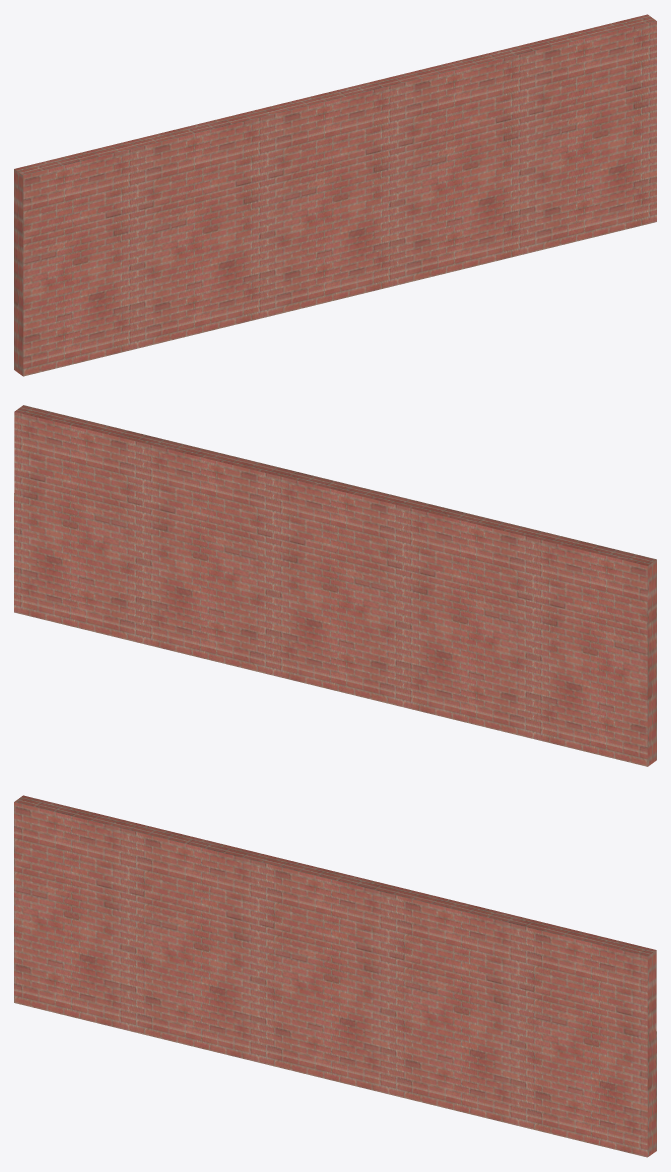
File: BRICKWALL04.glb
The picture shows the model from 3 angles, top to bottom: view 1: azimuth 30°, elevation 25°; view 2: azimuth 150°, elevation 25°; view 3: azimuth 330°, elevation 25°; orthographic projection.
Visible parts, largest first — view 1: BRICKWALL04; view 2: BRICKWALL04; view 3: BRICKWALL04.
Part boxes in pixels (box(x1,y1,x2,y2)): BRICKWALL04: box(14, 14, 656, 376); BRICKWALL04: box(14, 405, 656, 766); BRICKWALL04: box(14, 795, 656, 1157).
Size of the model in its own units: 2585 by 783 by 65.35.
Materials: 1 (1 with a texture image).
